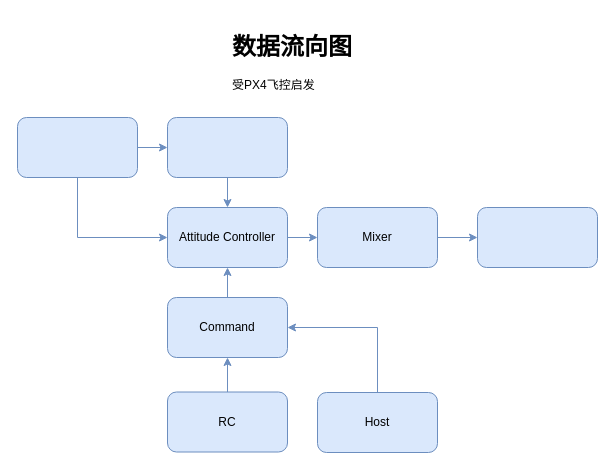
The diagram is 615 pixels wide and 470 high, and some of its shapes have lost their labels. Each missing label, with the box of its shape:
Actuator: (476, 206, 598, 268)
Attitude Estimator: (166, 116, 288, 178)
Sensor: (16, 116, 138, 178)
